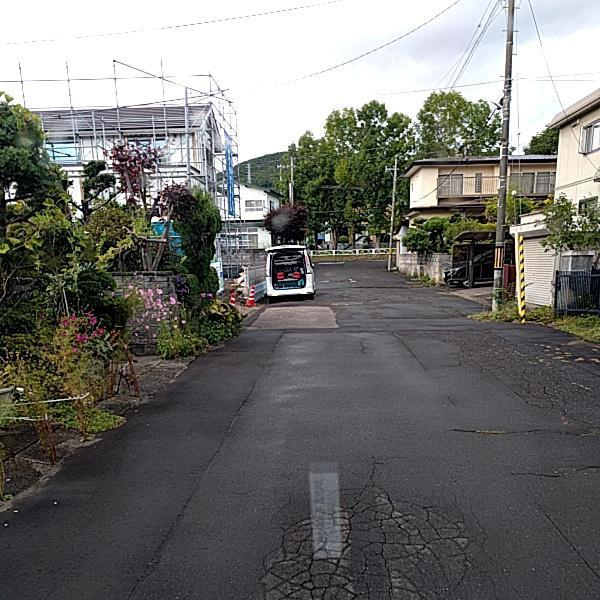D10: (445, 420, 599, 438), (502, 461, 599, 481)
D20: (235, 453, 501, 599), (510, 373, 580, 412)
